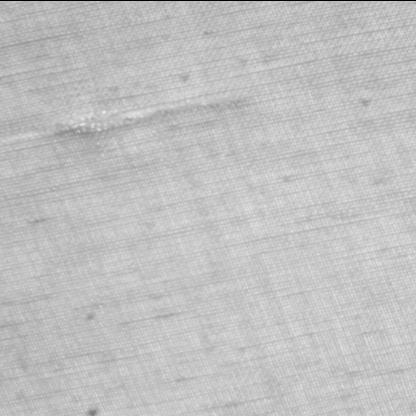thread error: (14, 82, 244, 151)
